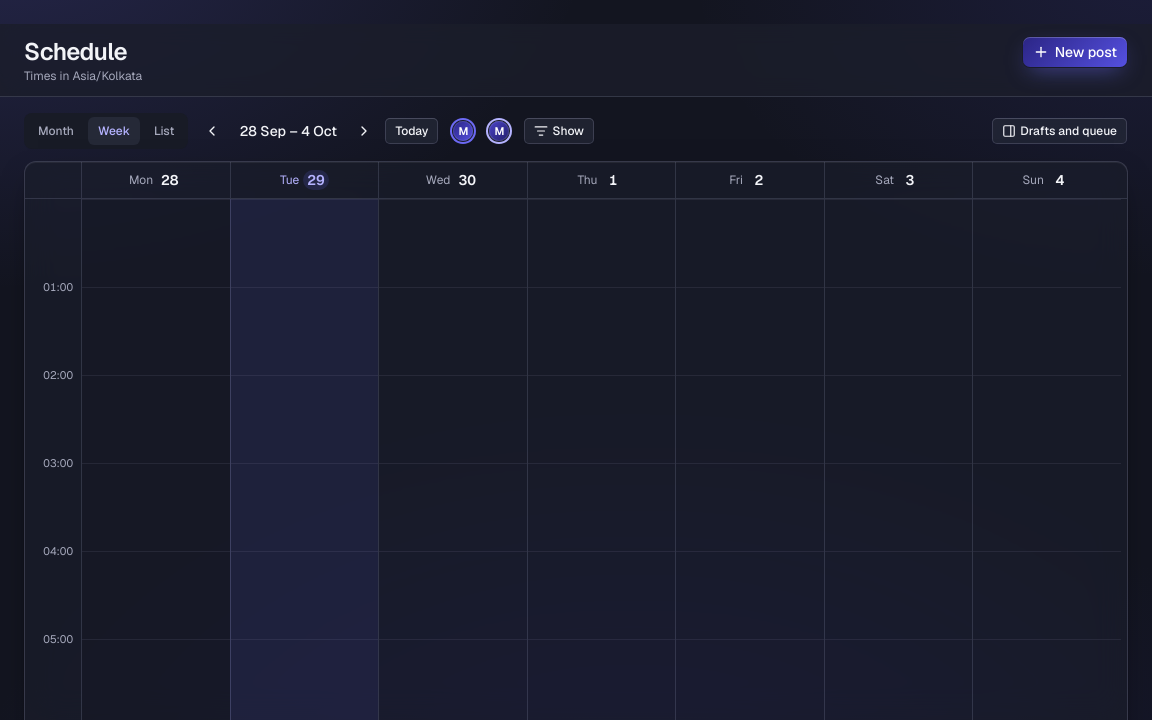
Schedule page: filters and layers (FR-PUB-08) › toggles accounts, statuses, the Messages layer and free queue times
Click the button named "@maple.cakes": (500, 131) left=484, top=115, right=516, bottom=147
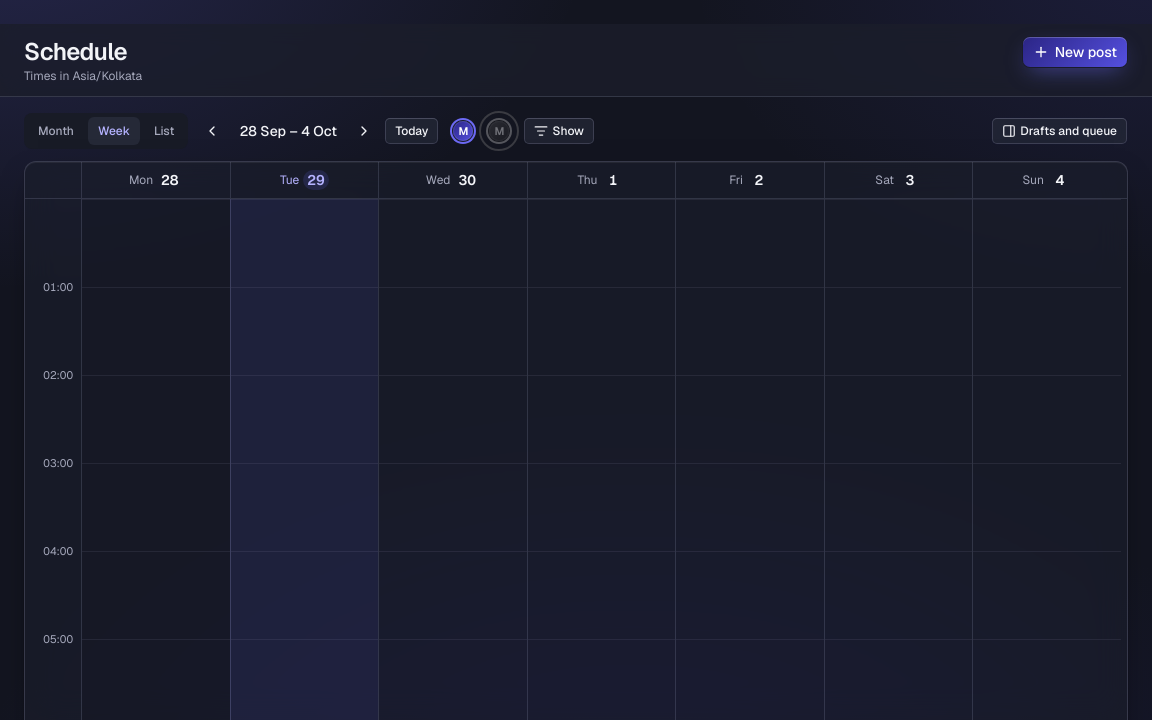
Click the button "Show": (559, 131) left=524, top=117, right=595, bottom=145
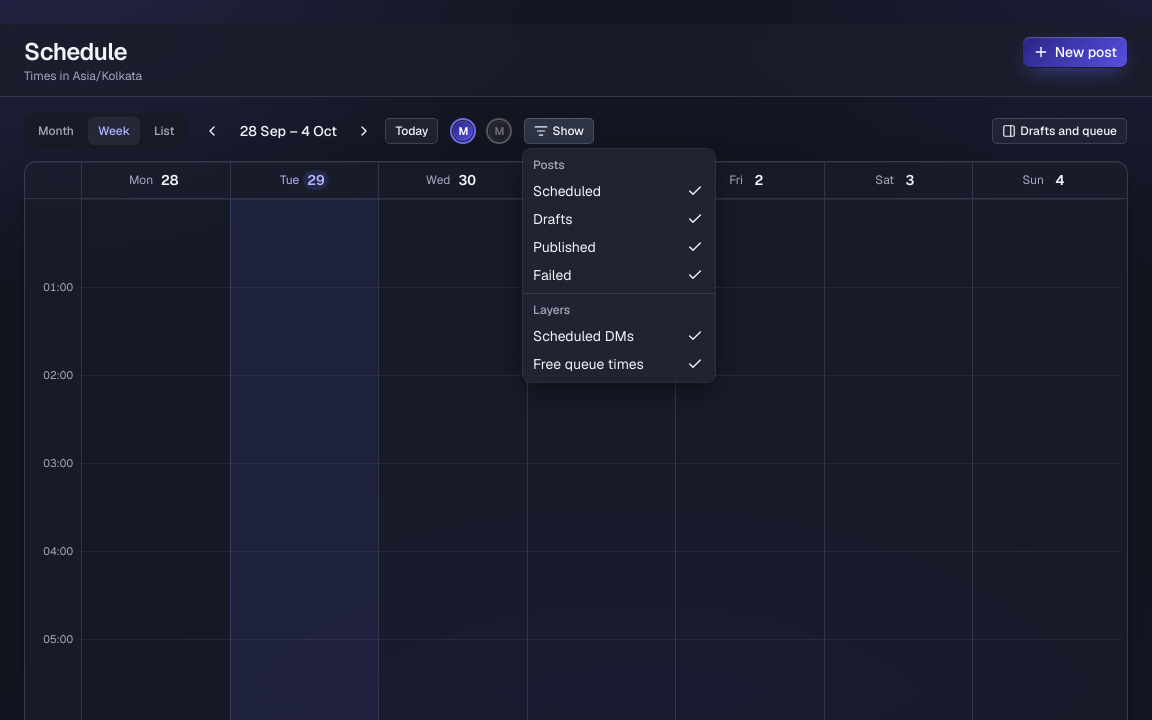
Click the menu item "Published": (564, 247) left=527, top=233, right=711, bottom=261
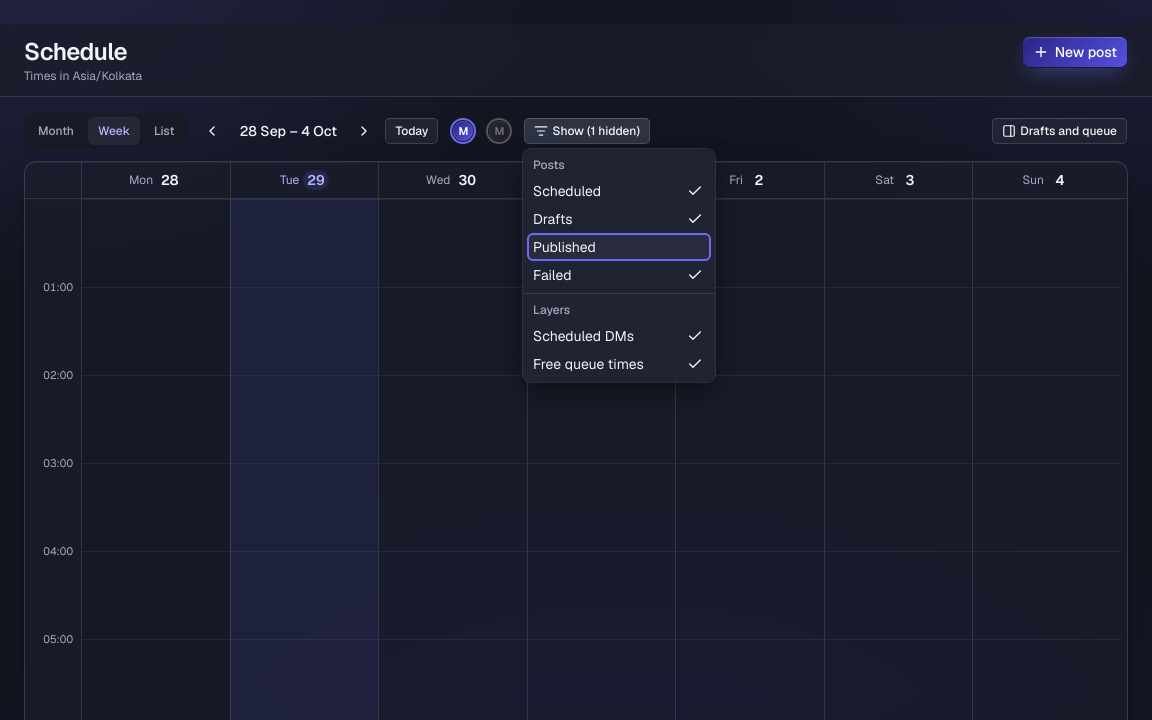
Click the menu item "Scheduled DMs": (619, 336) left=527, top=322, right=711, bottom=350
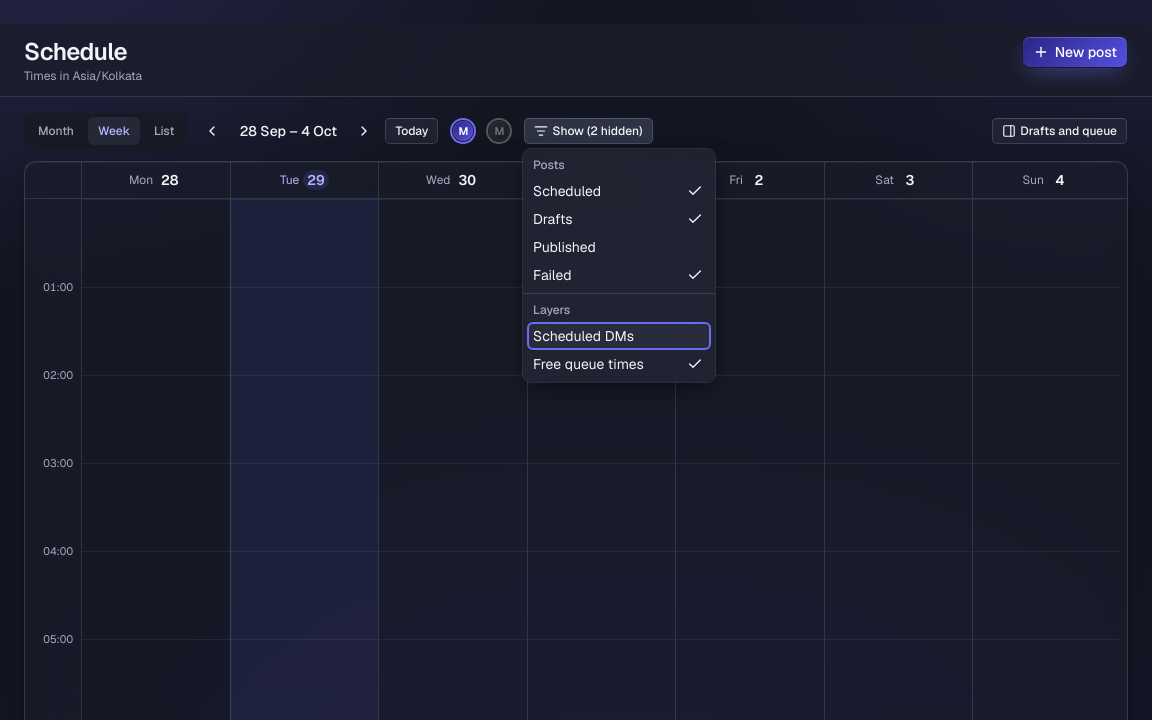
Click the menu item "Free queue times": (619, 364) left=527, top=350, right=711, bottom=378
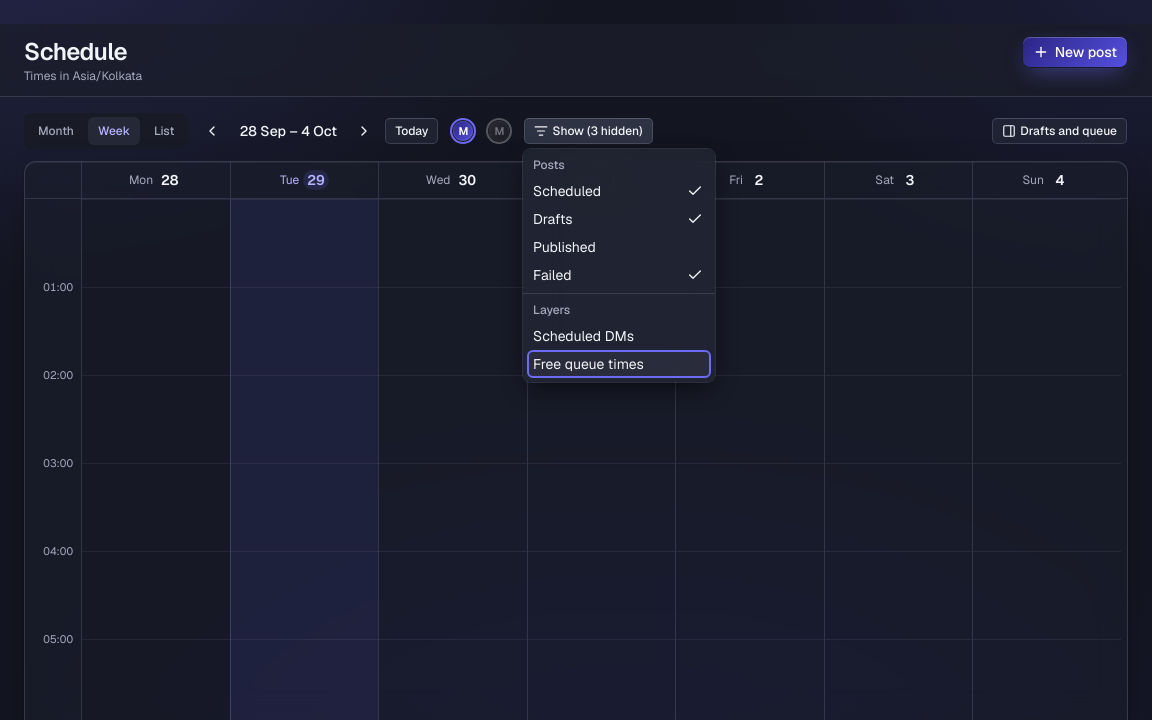
Press Escape
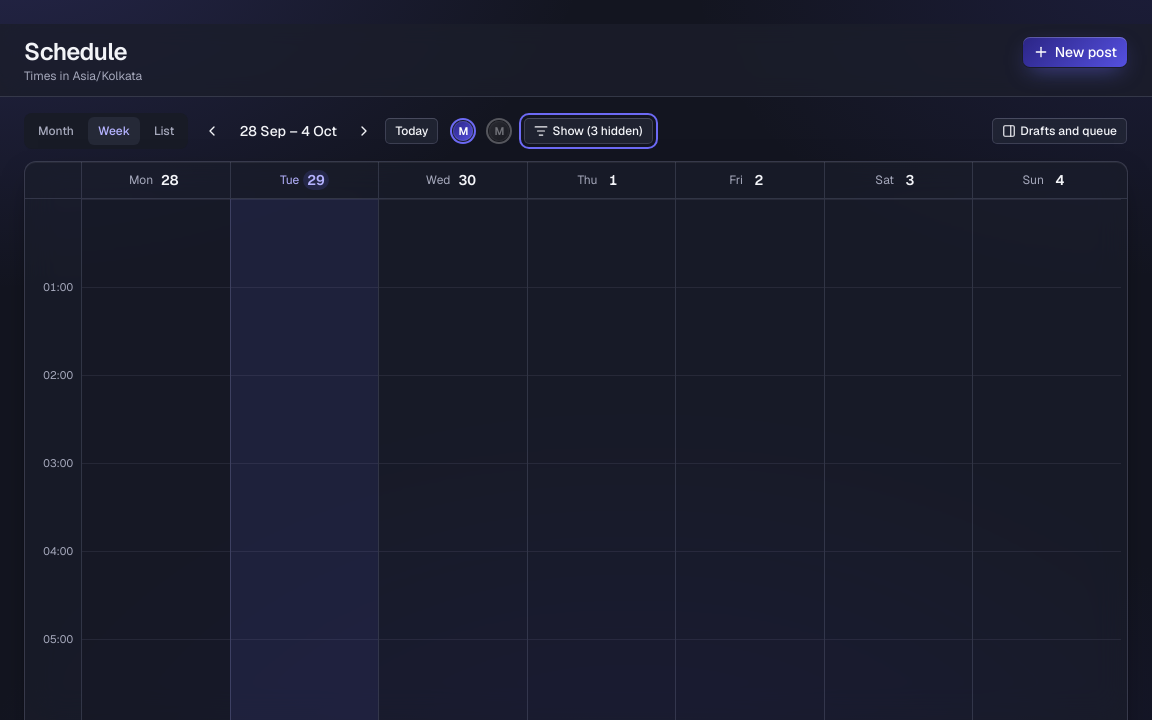
Expected: the button "Show (3 hidden)" is shown, left=524, top=117, right=654, bottom=145
Expected: the menu is gone
